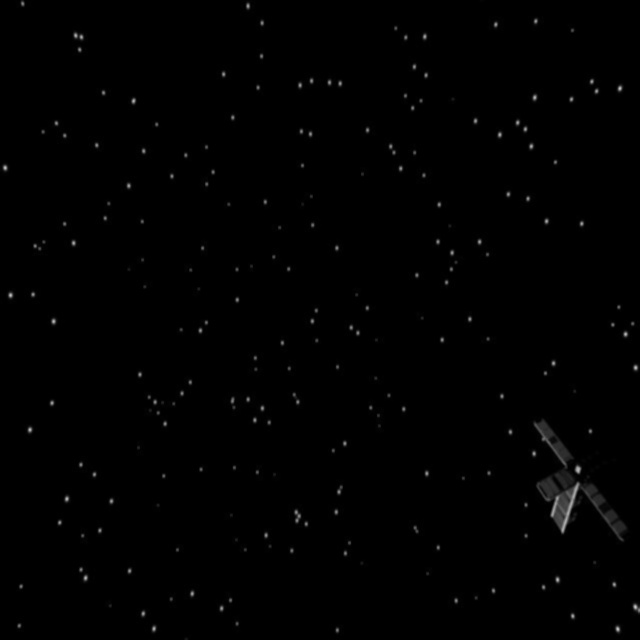medium_debris: (533, 417, 631, 543)
